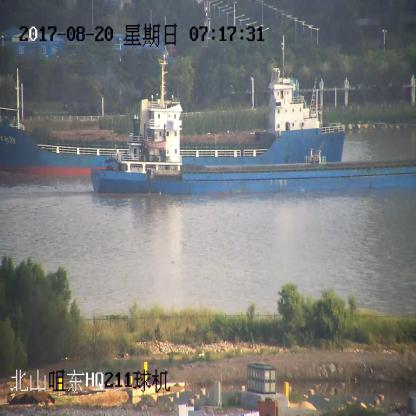Bulk Carrier: (0, 71, 343, 165), (92, 102, 416, 196)
